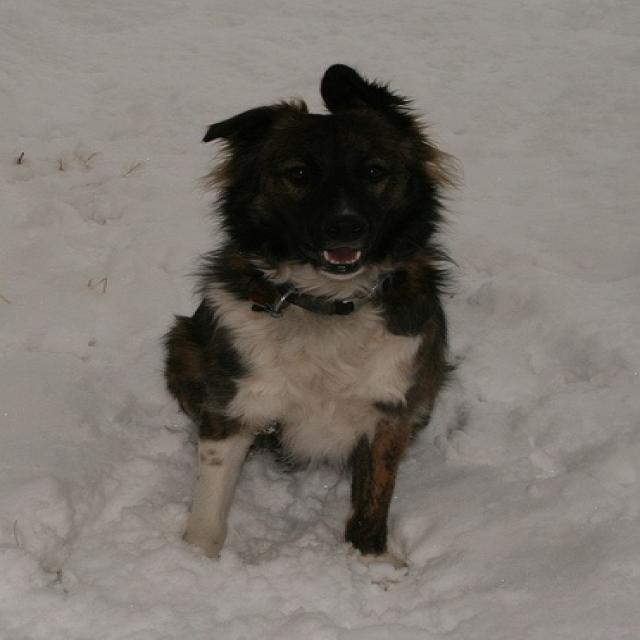dog: (155, 60, 476, 572)
